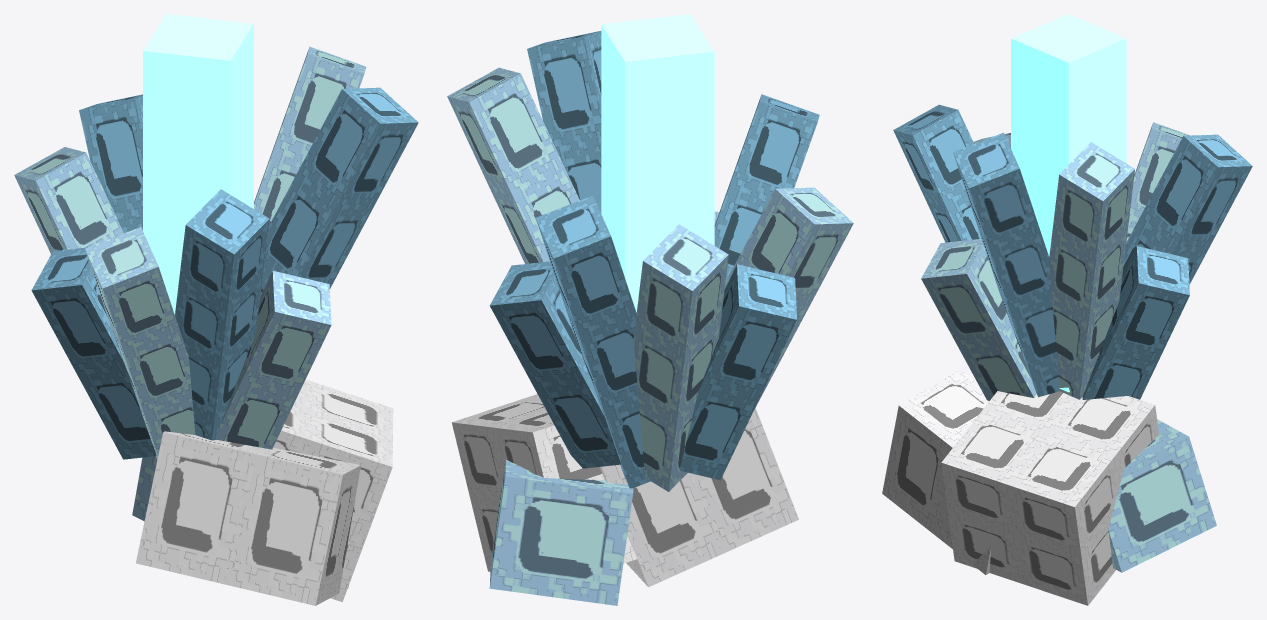
File: IceCrystals.glb
The picture shows the model from 3 angles, left to right: view 1: azimuth 30°, elevation 25°; view 2: azimuth 150°, elevation 25°; view 3: azimuth 270°, elevation 25°; orthographic projection. The views are drawn at different scales.
Visible parts, largest first — view 1: IceCrystals, IceCrystals_Glow; view 2: IceCrystals, IceCrystals_Glow; view 3: IceCrystals, IceCrystals_Glow.
Boxes of the visible parts, x1,y1,x2,y2 form: IceCrystals: [14, 46, 418, 605]; IceCrystals_Glow: [143, 14, 253, 314]; IceCrystals: [447, 31, 853, 605]; IceCrystals_Glow: [601, 14, 714, 312]; IceCrystals: [882, 104, 1252, 605]; IceCrystals_Glow: [1011, 14, 1126, 392].
Size of the model in its own units: 4.02 by 6.06 by 4.08.
Materials: 2 (1 with a texture image).
